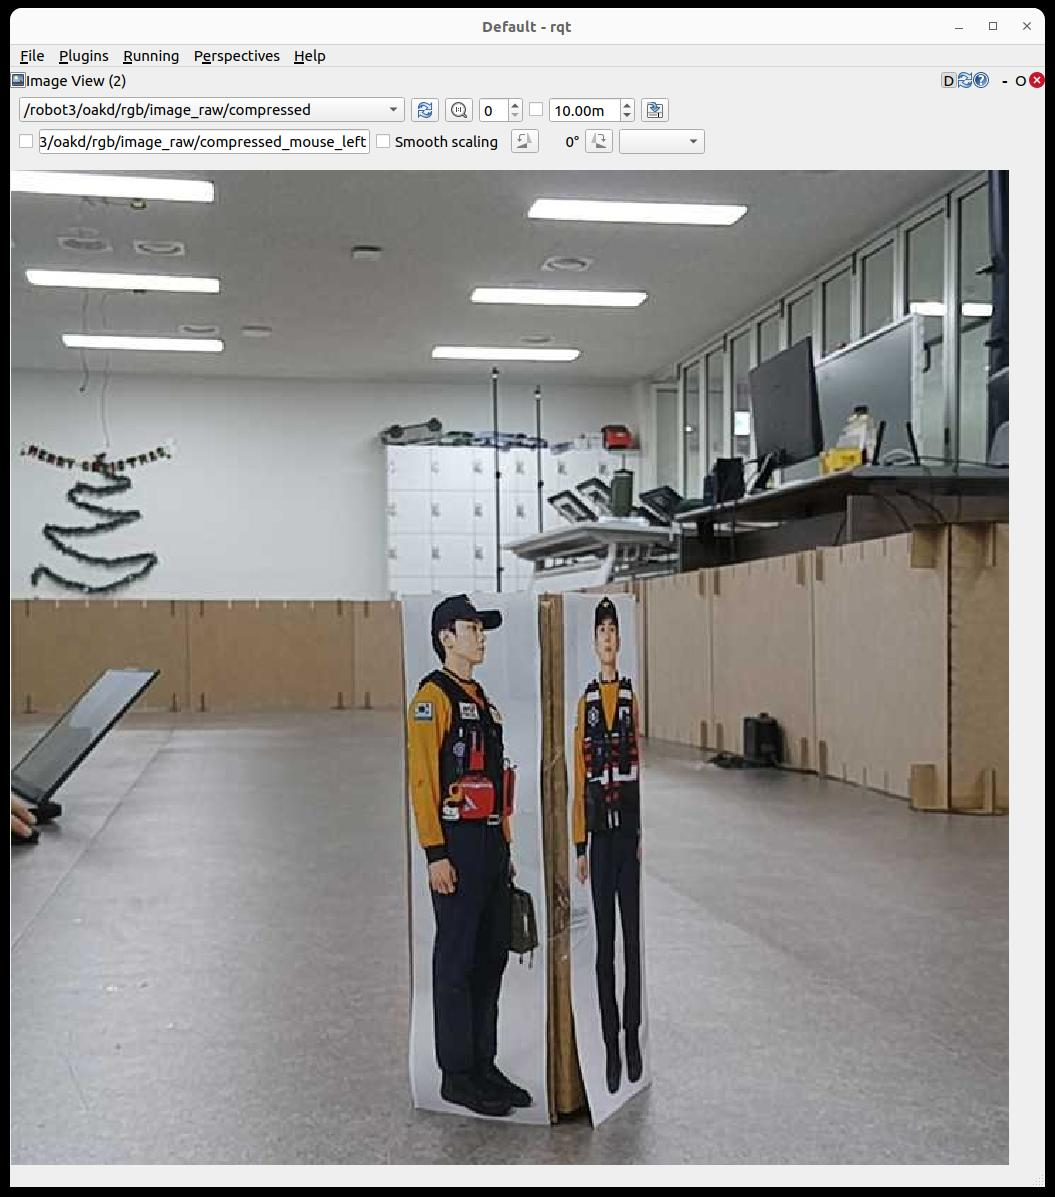Responder: (408, 613, 533, 1116), (572, 597, 642, 1093)
